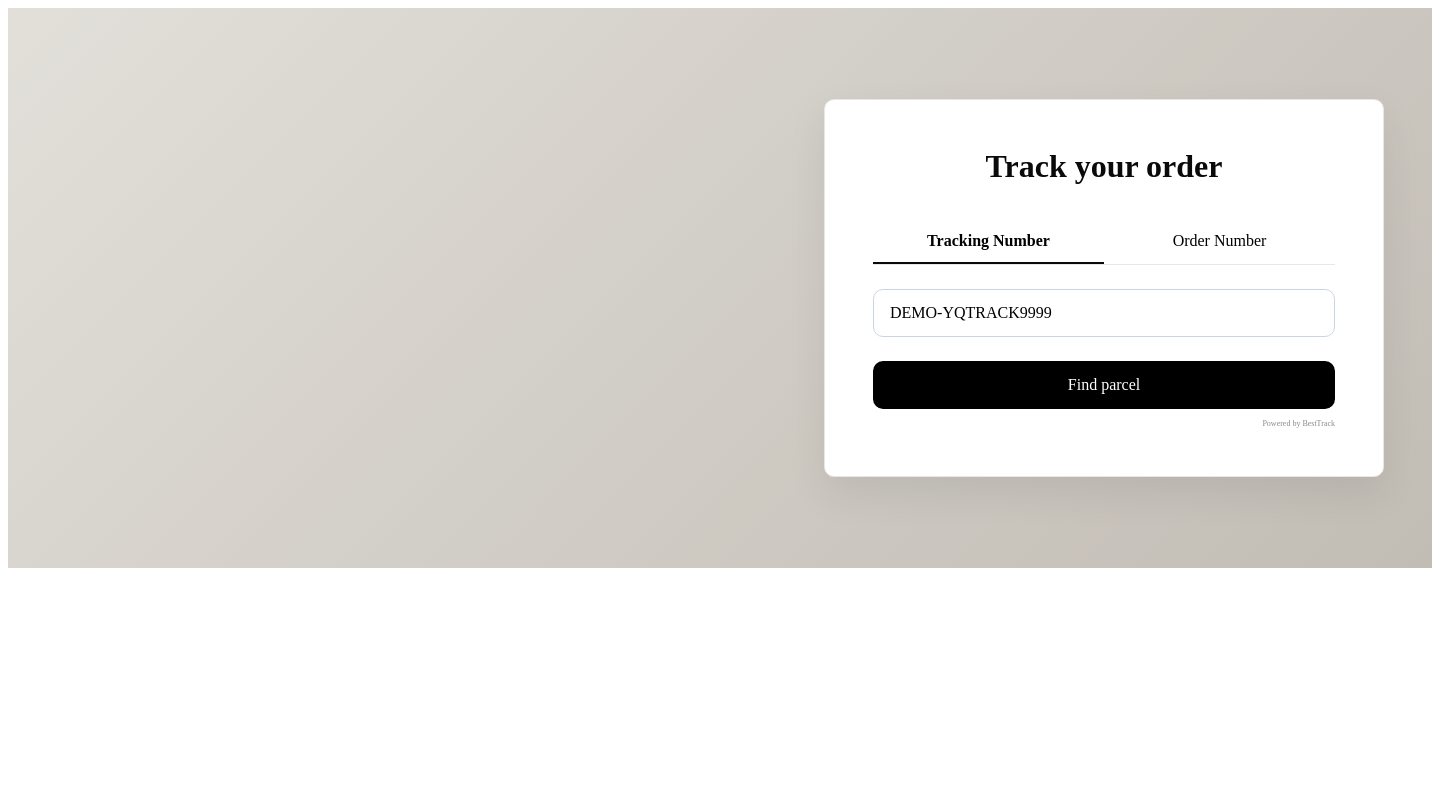
it: Branded uses the Ready-to-go foundation › hides recommendations without an independent source and shows no demo data on an empty lookup
Replace the text in the field named "tracking number" with "MISSING": (1104, 313) [873,289,1335,337]
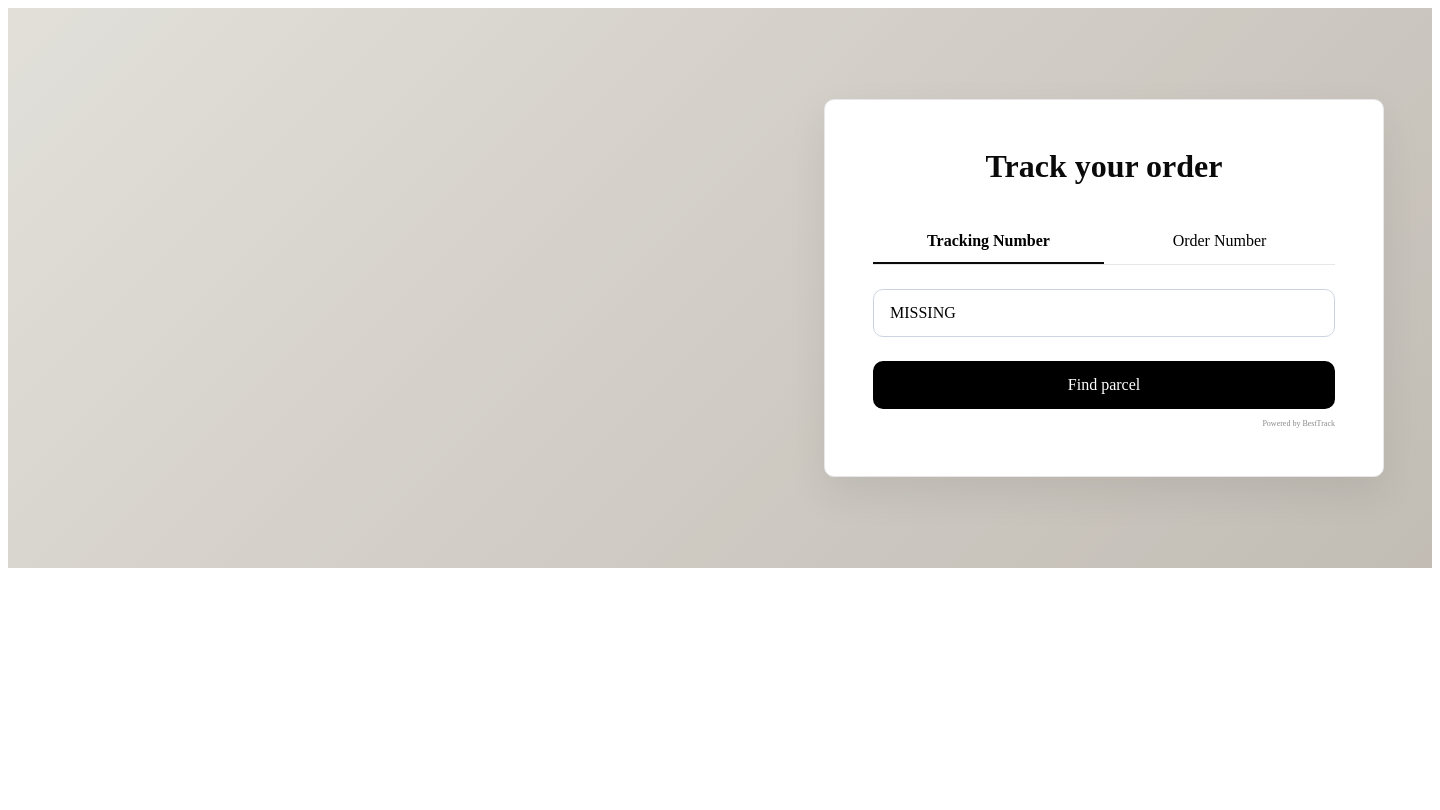
Click the button "Find parcel": (1104, 385) [873,361,1335,409]
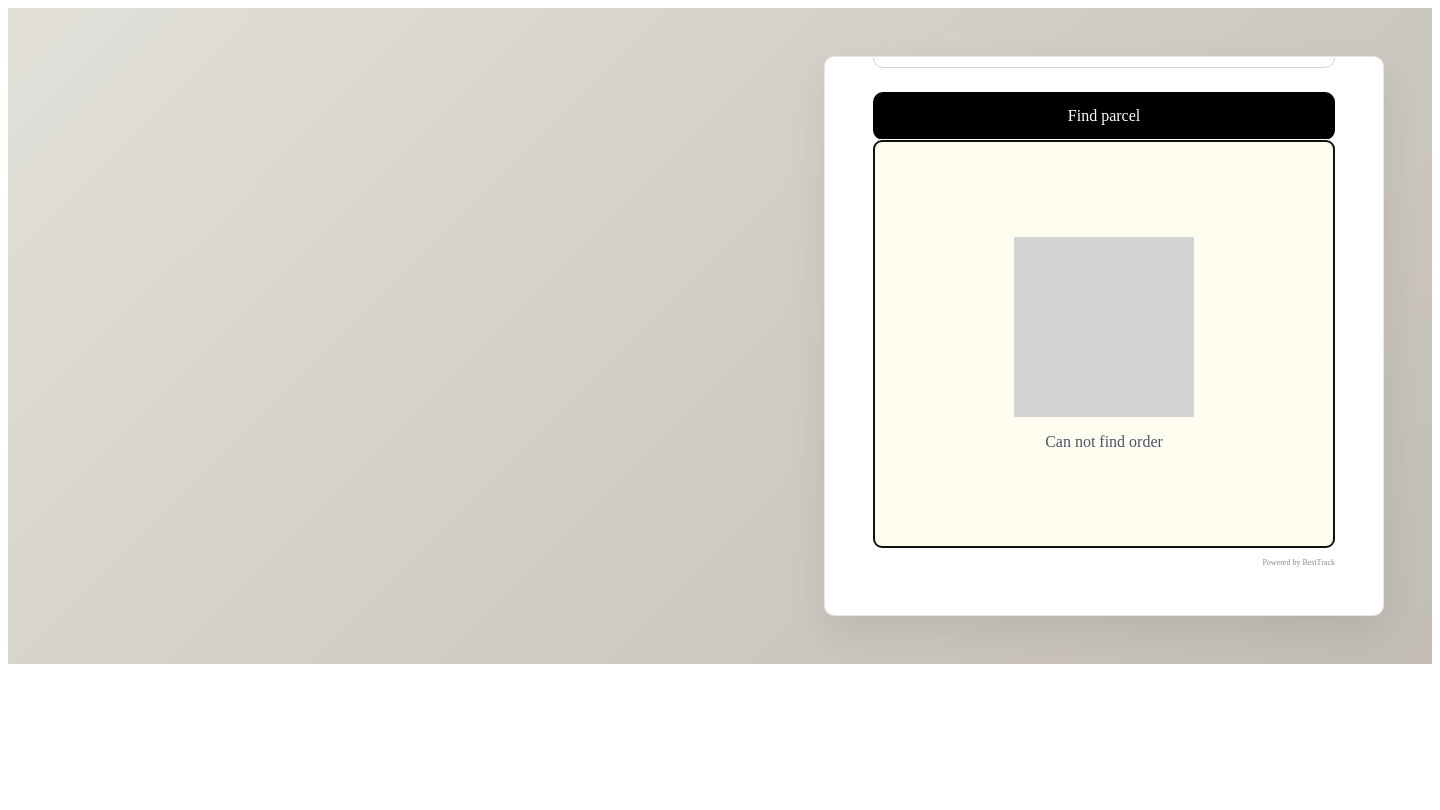
Expected: the text "Can not find order" is shown, [1045,433,1163,451]
